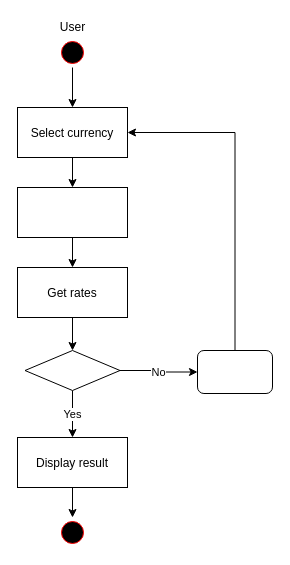
This 290x565 diagram has some shape labels left out. Each missing label, with the centre of its shape:
"Correct?" goes at (72,370).
"Display error" goes at (234,372).
"Enter amount" goes at (72,212).
